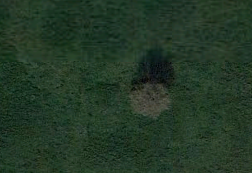tree: (128, 76, 175, 129)
